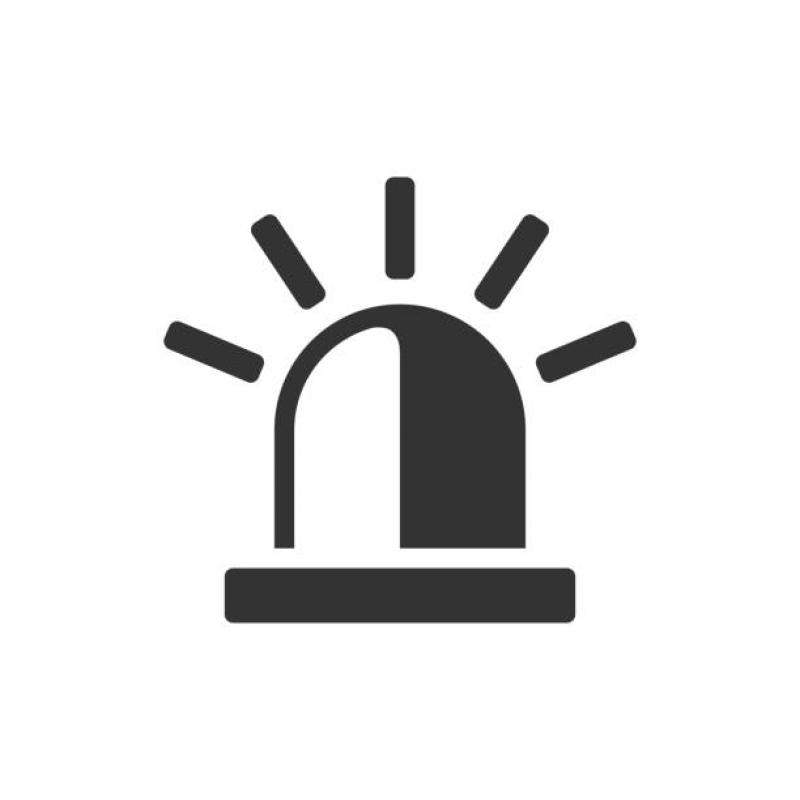AmbulanceSiren: (150, 266, 620, 690)
